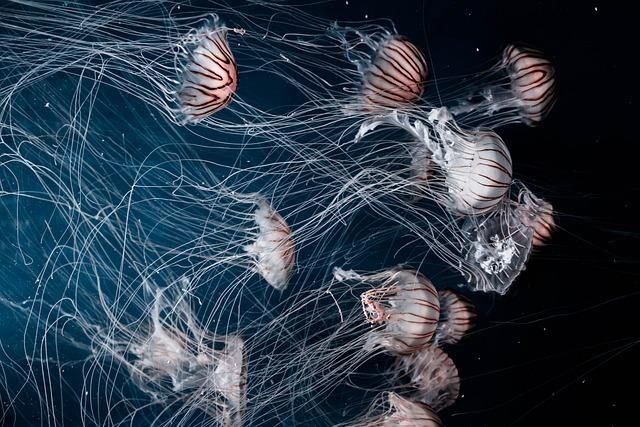Non_Gorille: (86, 5, 564, 427)
